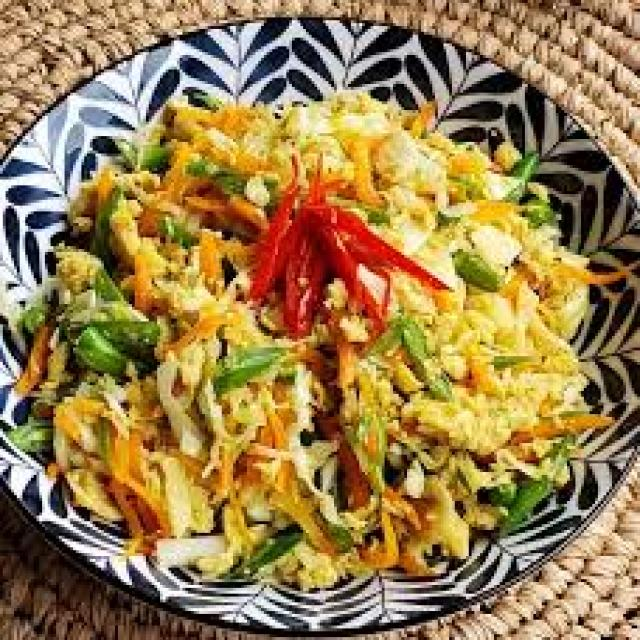telur_orak_arik: (51, 95, 582, 569)
